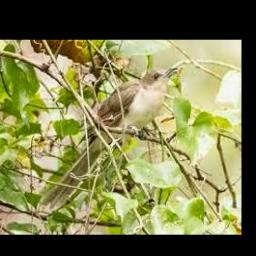Cuckoo: (40, 66, 177, 210)
